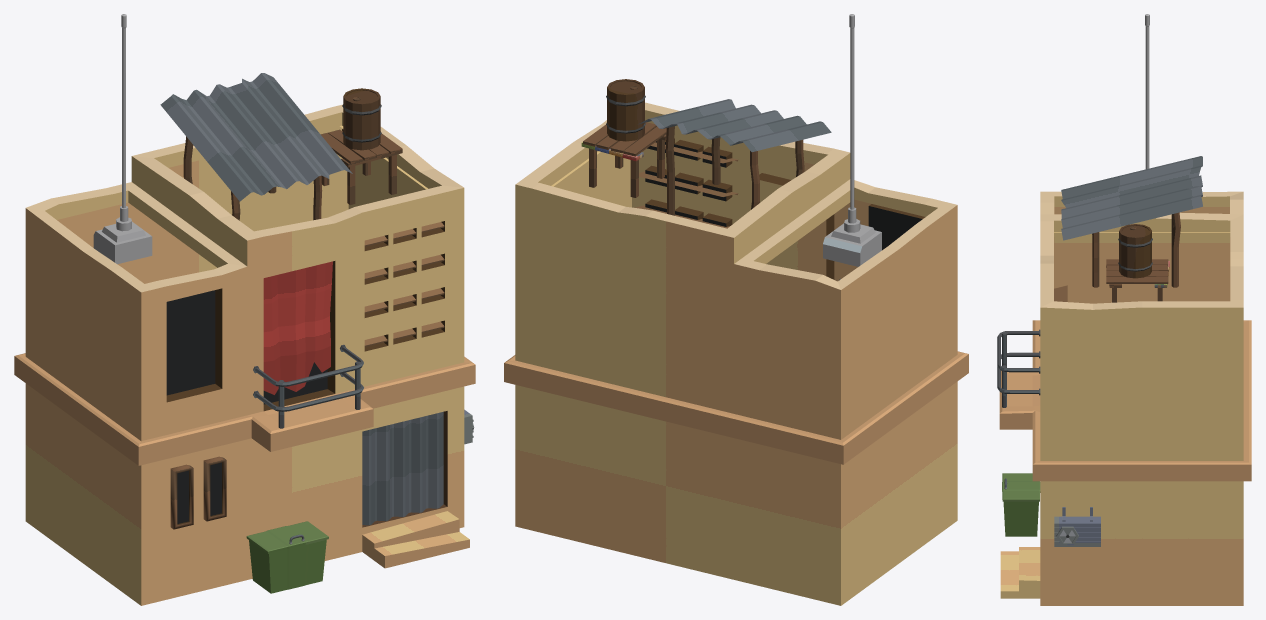
The model's file is HOUSE_2.fbx.
3 views of the same model, side by side, from view 1: azimuth 30°, elevation 25°; view 2: azimuth 150°, elevation 25°; view 3: azimuth 270°, elevation 25° (orthographic). The views are drawn at different scales.
Parts seen in each view (by area): view 1: Desert_Warehause.001; view 2: Desert_Warehause.001; view 3: Desert_Warehause.001.
Part boxes in pixels (<box>): Desert_Warehause.001: <box>14,14,475,605</box>; Desert_Warehause.001: <box>504,14,968,605</box>; Desert_Warehause.001: <box>997,14,1251,605</box>.
Bounding box in the file's own units: 1381 × 2027 × 989.
